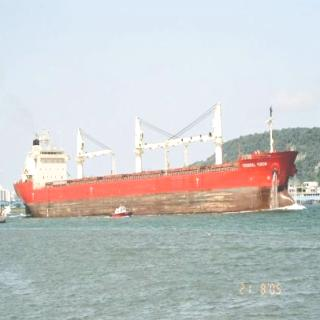Bulk Carrier: (0, 126, 305, 219)
